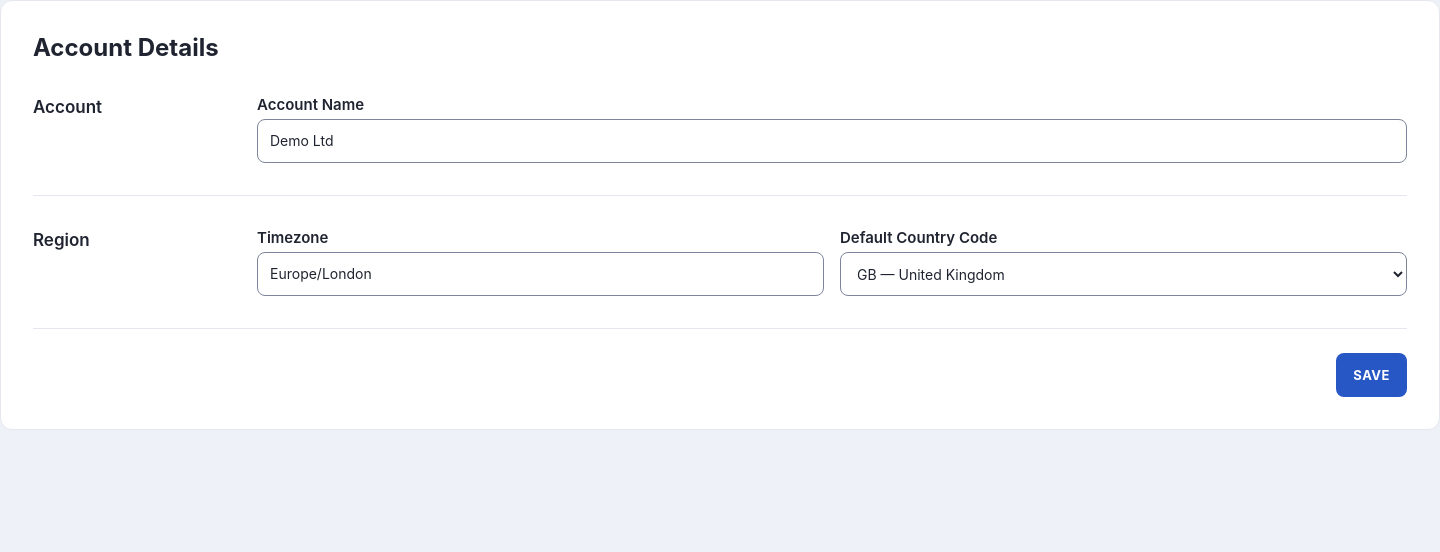
Test case: AccountSettingsScreen › saves every field and confirms
This screenshot has width=1440, height=552.
Replace the text in the field labelled "Account Name" with "Acme Ltd": (832, 141) [257,119,1407,163]
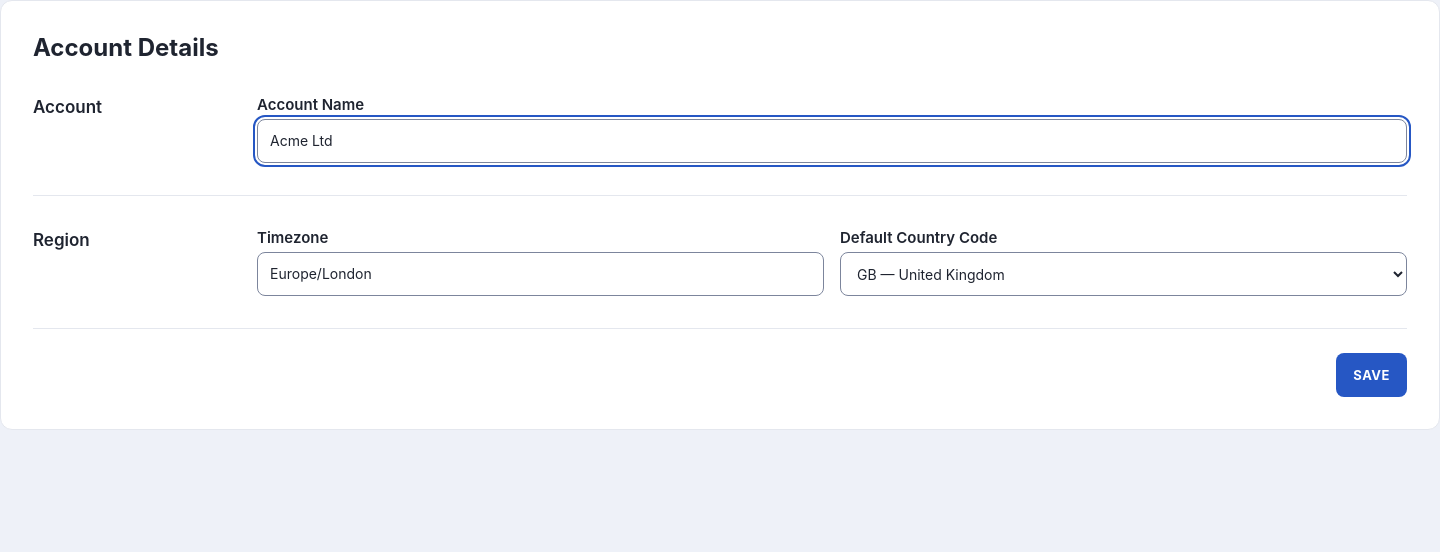
Select "US" in the dropdown labelled "Default Country Code": (1124, 274) [840,252,1407,296]
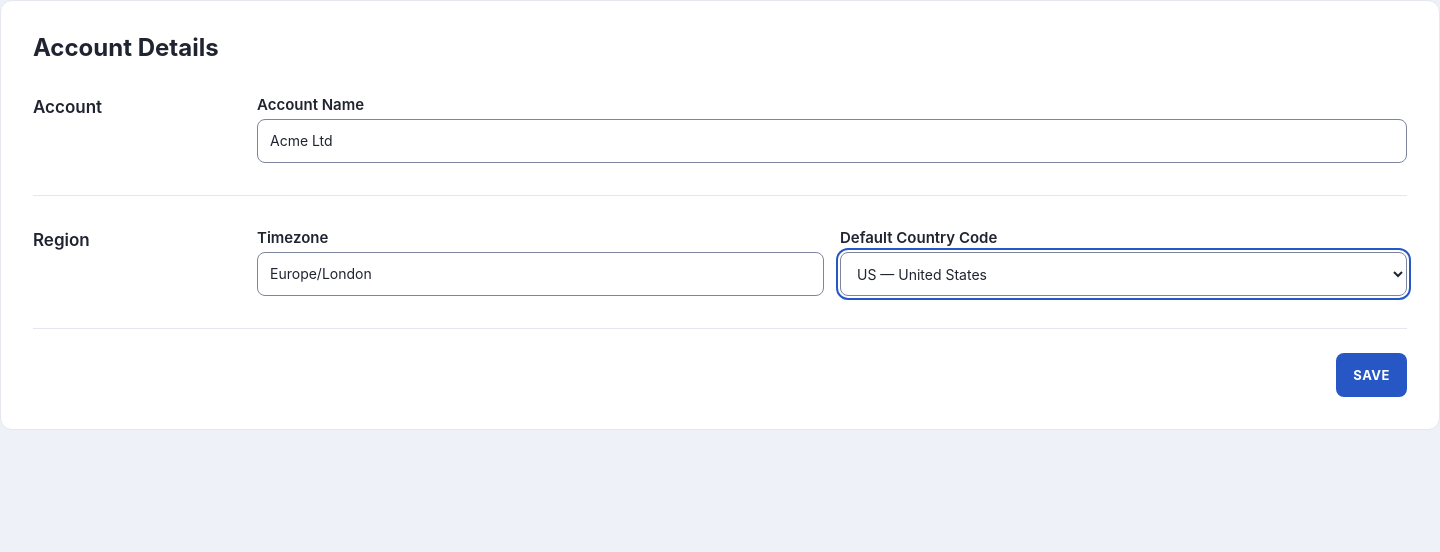
Click the button "Save": (1372, 375) [1336,353,1407,397]
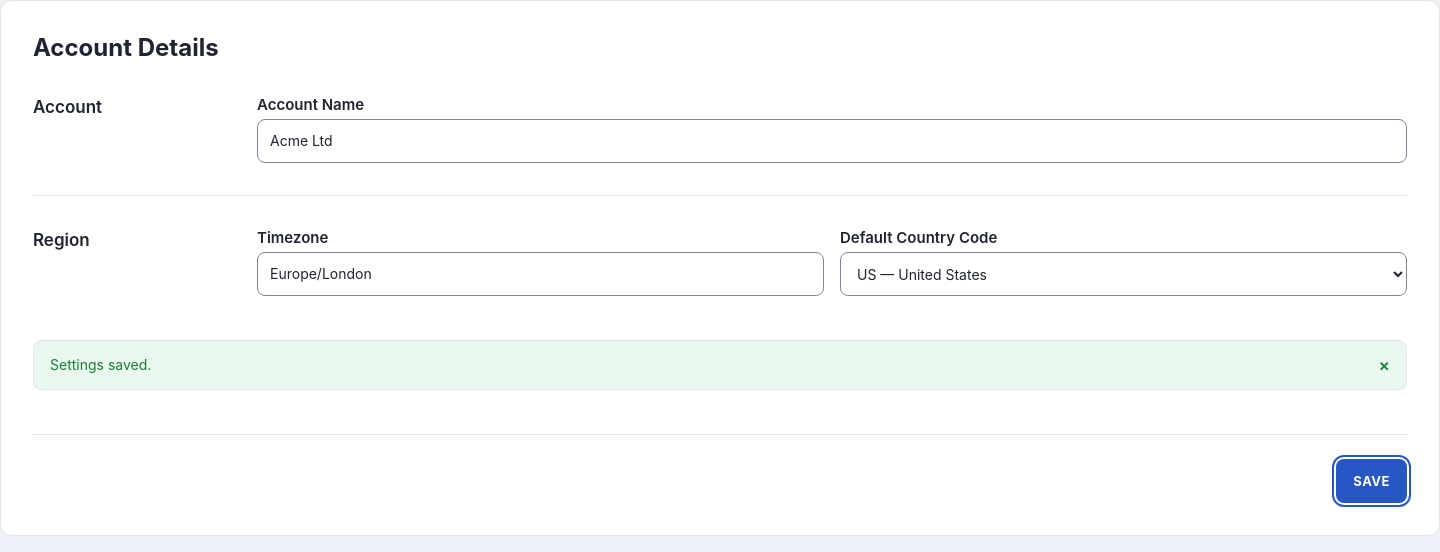
Expected: the text "Settings saved." is shown, [50,356,151,373]
